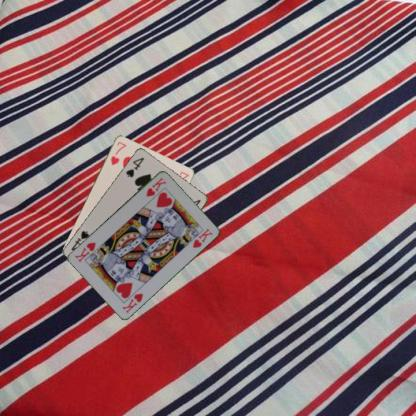4s: (123, 154, 145, 179)
7h: (108, 139, 128, 166)
Kh: (143, 174, 168, 198), (119, 291, 144, 314)
